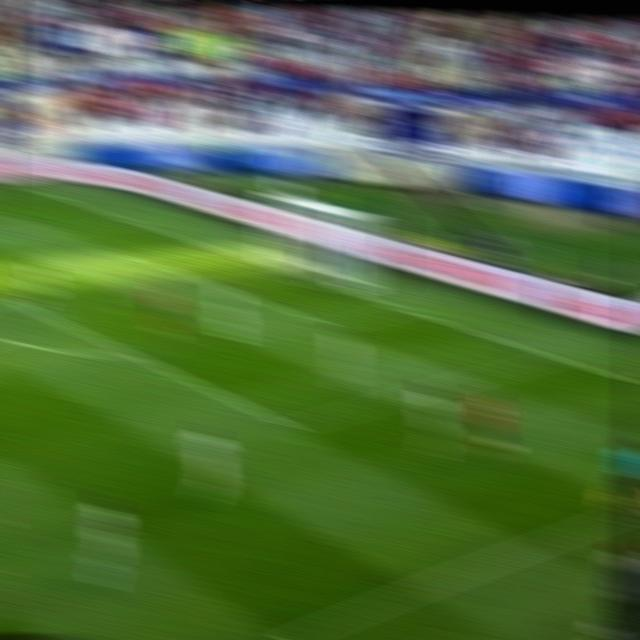bigarea_bottom_inner: (269, 406, 313, 445)
bigarea_bottom_outter: (534, 343, 571, 369)
bigarea_top_outter: (113, 209, 145, 230)
bottom_arc_area_intersection: (109, 337, 148, 368)
corner: (19, 180, 55, 198)
smallarea_bottom_inner: (312, 312, 345, 337)
smallarea_bottom_outter: (385, 296, 421, 321)
smallarea_top_inner: (134, 248, 169, 272)
smallarea_top_outter: (198, 237, 234, 261)
top_arc_area_intersection: (0, 278, 8, 305)
